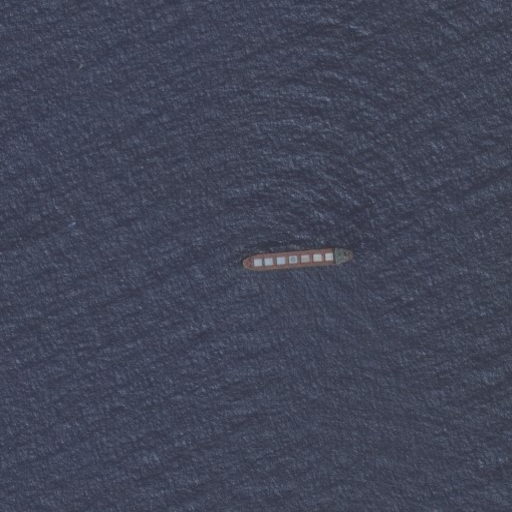ship: (239, 245, 356, 274)
